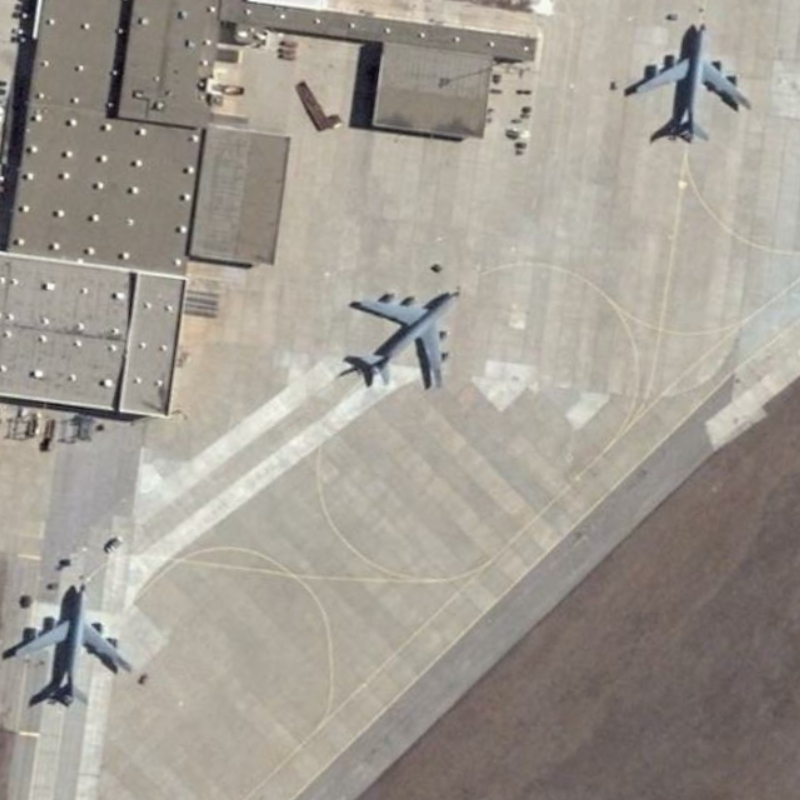A14: (612, 14, 763, 156), (2, 573, 148, 713), (339, 268, 465, 400)
